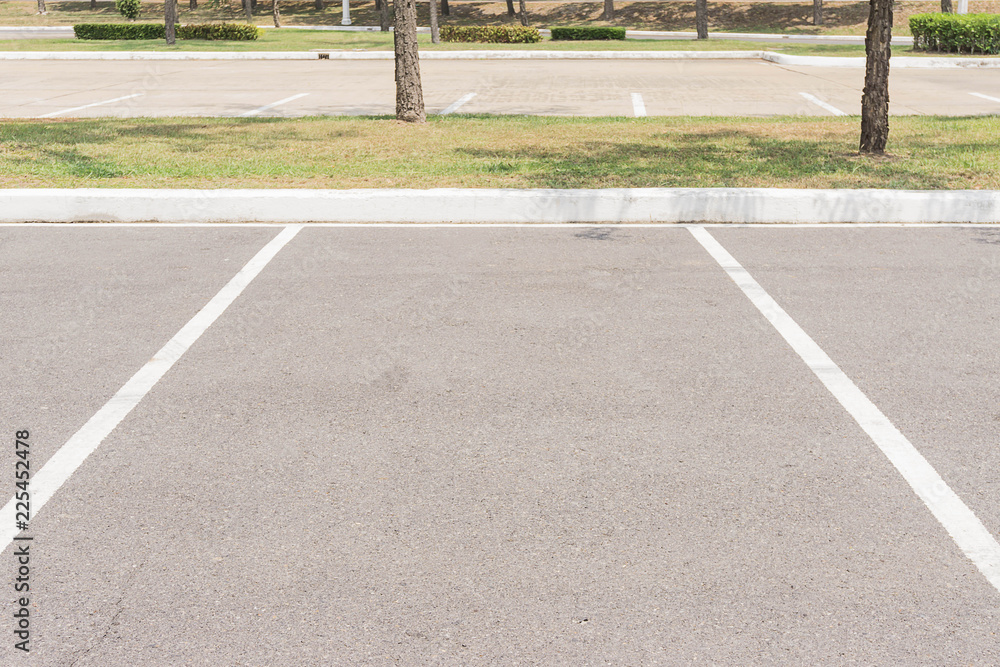dolu: (32, 225, 994, 605)
